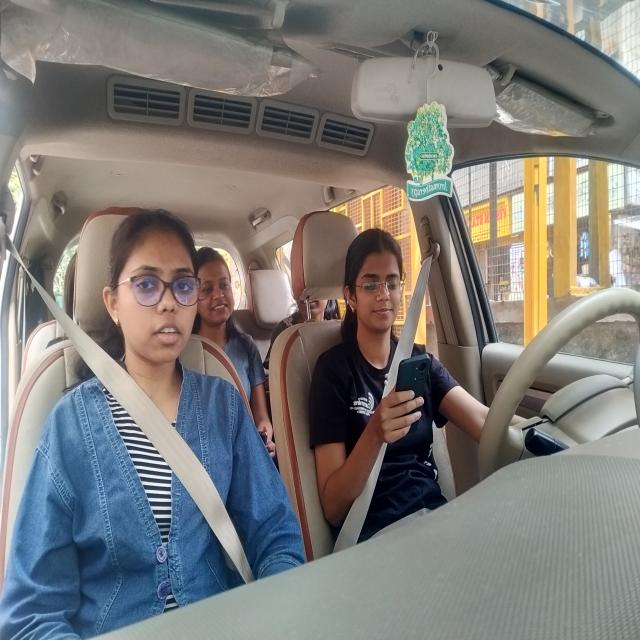mobile: (397, 352, 436, 443)
person: (102, 207, 205, 369), (344, 227, 407, 336), (194, 246, 238, 324), (299, 296, 336, 322)
